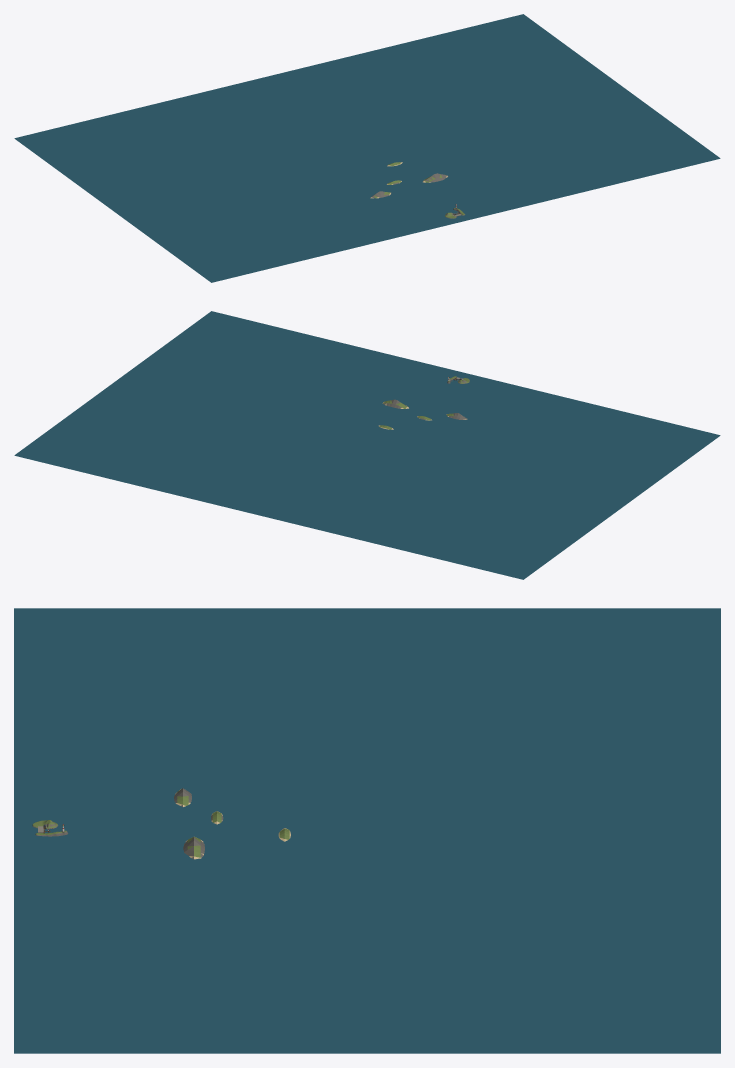
The model's file is harbor_ps1.glb.
3 renders of one model, top to bottom at view 1: azimuth 30°, elevation 25°; view 2: azimuth 150°, elevation 25°; view 3: azimuth 270°, elevation 25°, orthographic. The views are drawn at different scales.
Visible parts, largest first — view 1: Sea; view 2: Sea; view 3: Sea, IslandsFar.
Boxes of the visible parts, bbox=[...] form: Sea: bbox=[14, 14, 720, 282]; Sea: bbox=[14, 311, 720, 579]; Sea: bbox=[14, 608, 720, 1053]; IslandsFar: bbox=[174, 788, 290, 859].
Bounding box in the file's own units: 1400 × 15.55 × 940.
